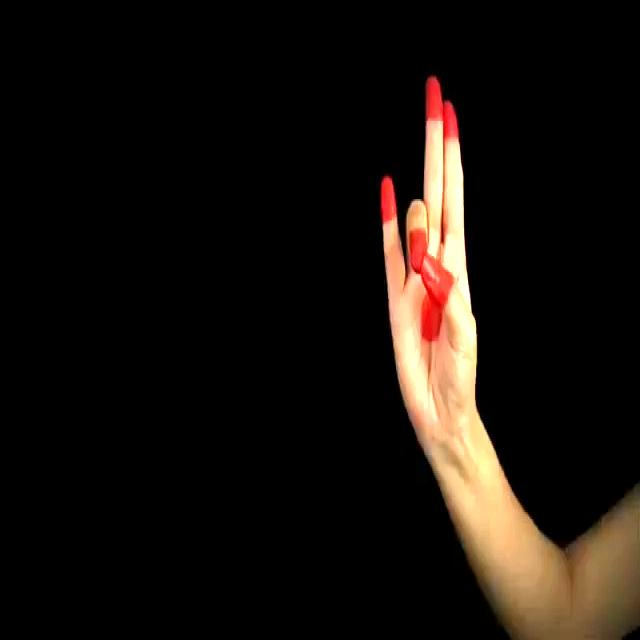Mayura: (353, 40, 512, 458)
